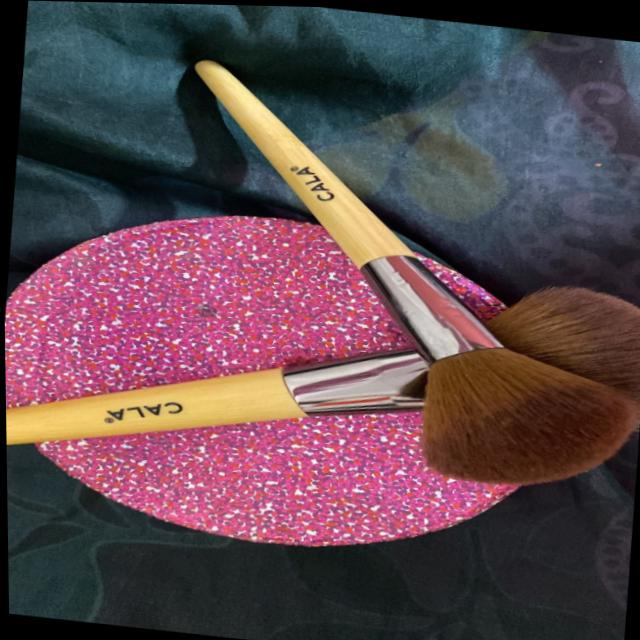brush: (0, 31, 640, 517), (361, 211, 640, 522)
